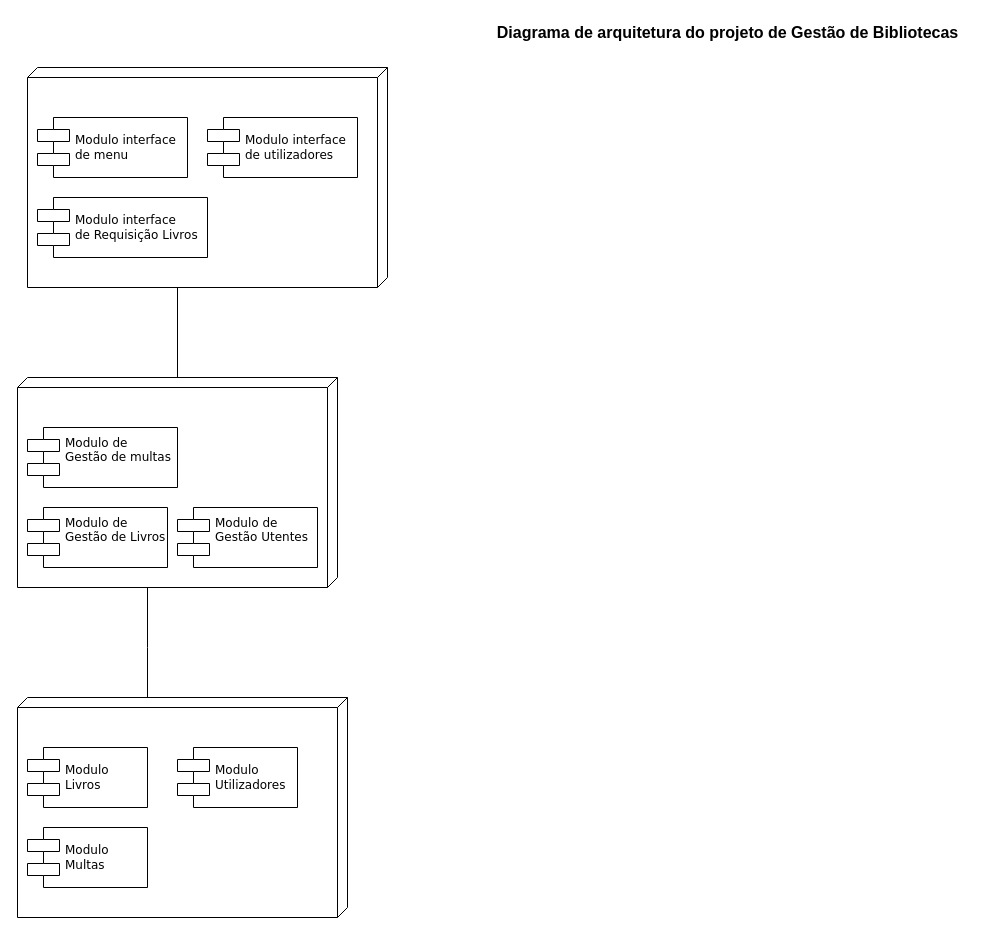
Some shapes in this 985 by 935 pixel diagram are drawn without their labels. The box of each missing label's shape, as (x1, y1, x2, y2) in pixels:
Base de dados: (16, 696, 348, 918)
Camada da Logica do negocio: (16, 376, 338, 588)
Interface do utilizador: (26, 66, 388, 288)
